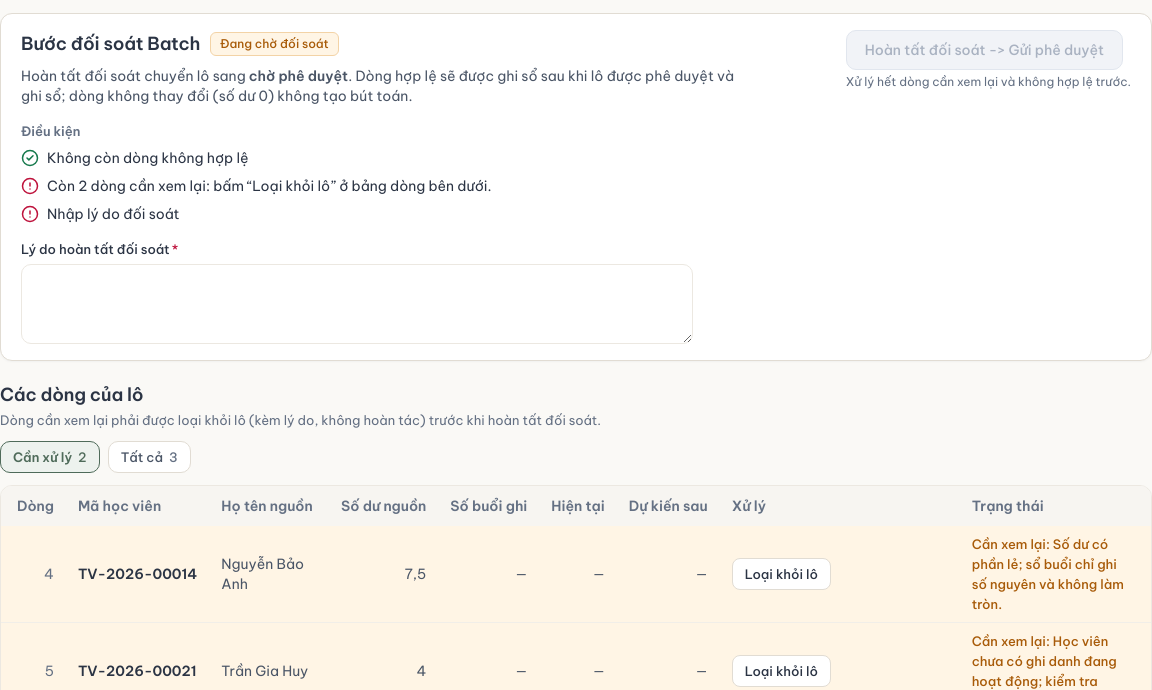
Test: Session balance batch page panels (step 15b) › exclude: a refused write stays inline and nothing refreshes
(page scrolled)
Click the button named "Loại khỏi lô dòng 4" at (781, 574), box left=732, top=558, right=831, bottom=590
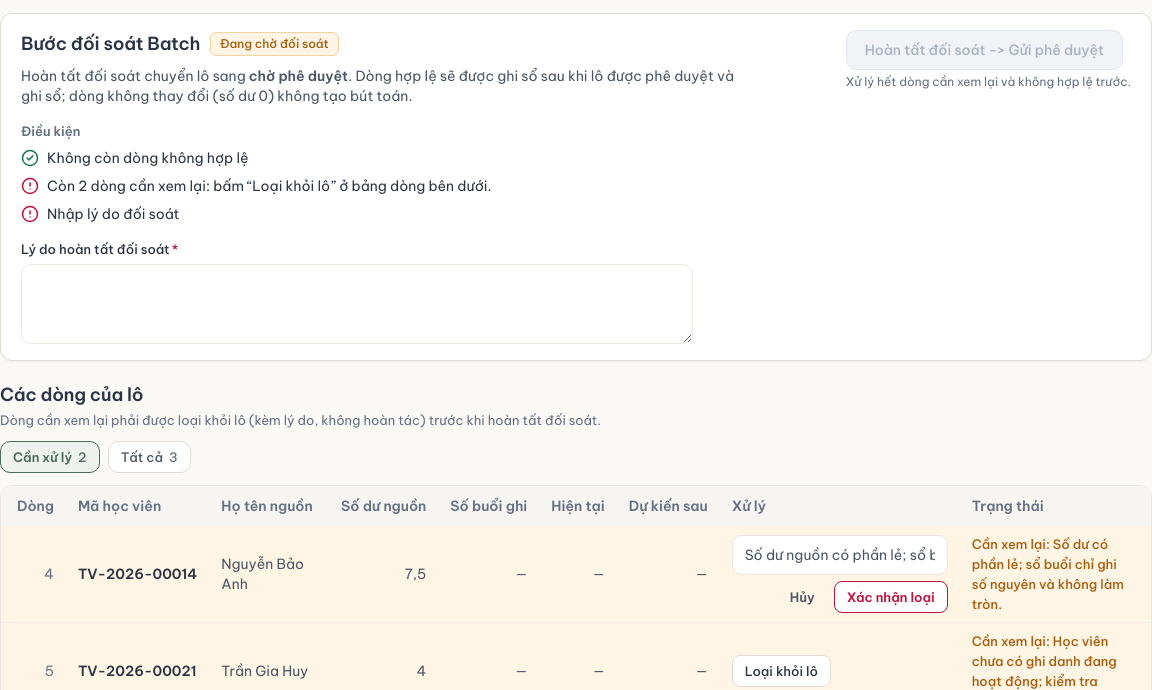
Click the button "Xác nhận loại" at (891, 597), box left=834, top=581, right=948, bottom=613
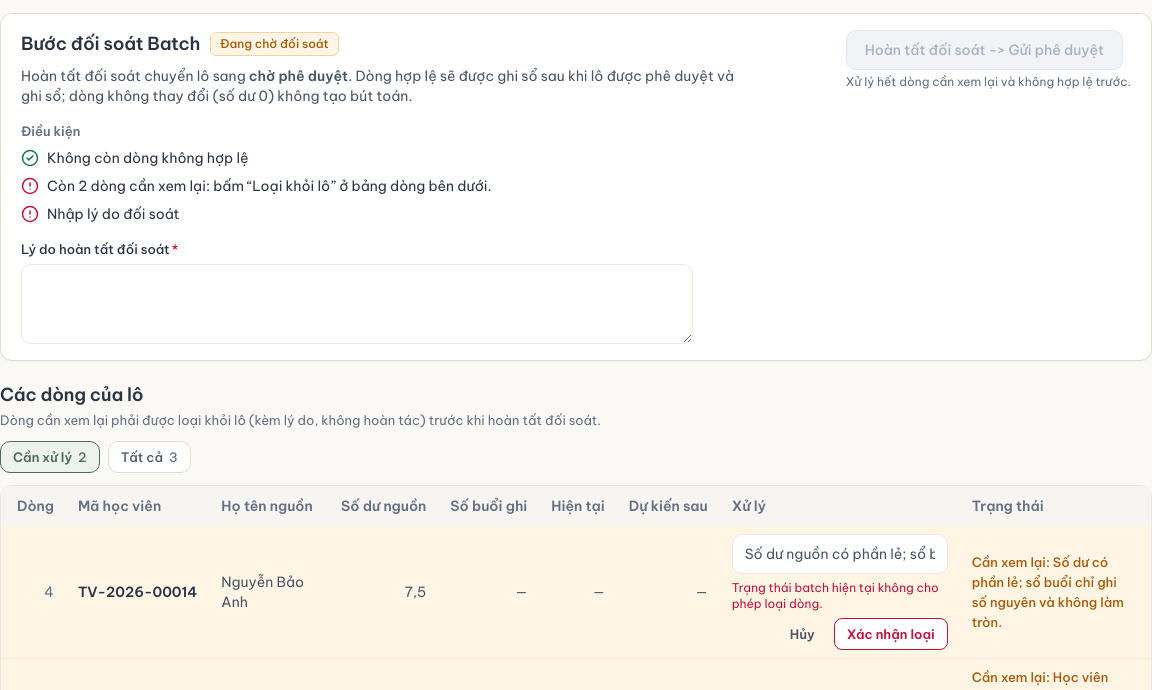
Check: the field named "Lý do loại dòng 4" is shown, box left=732, top=534, right=948, bottom=574
Check: the message reads "Trạng thái batch hiện tại không cho phép loại dòng.", box left=732, top=580, right=939, bottom=611
